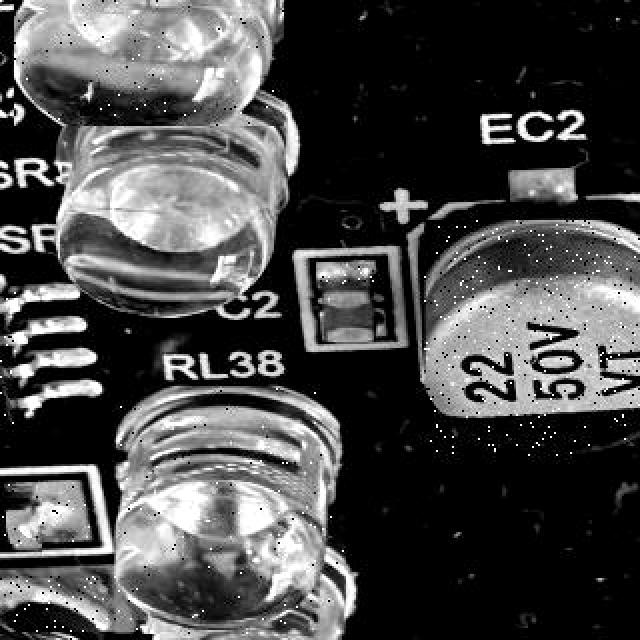Capacitor: (424, 220, 640, 456), (322, 274, 376, 342)
Diode: (0, 498, 40, 552)
Soldering: (0, 574, 108, 632), (6, 483, 92, 543), (316, 262, 374, 286)
led: (114, 386, 344, 634), (14, 0, 284, 124)
